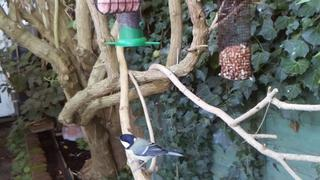great tit: (114, 134, 185, 173)
